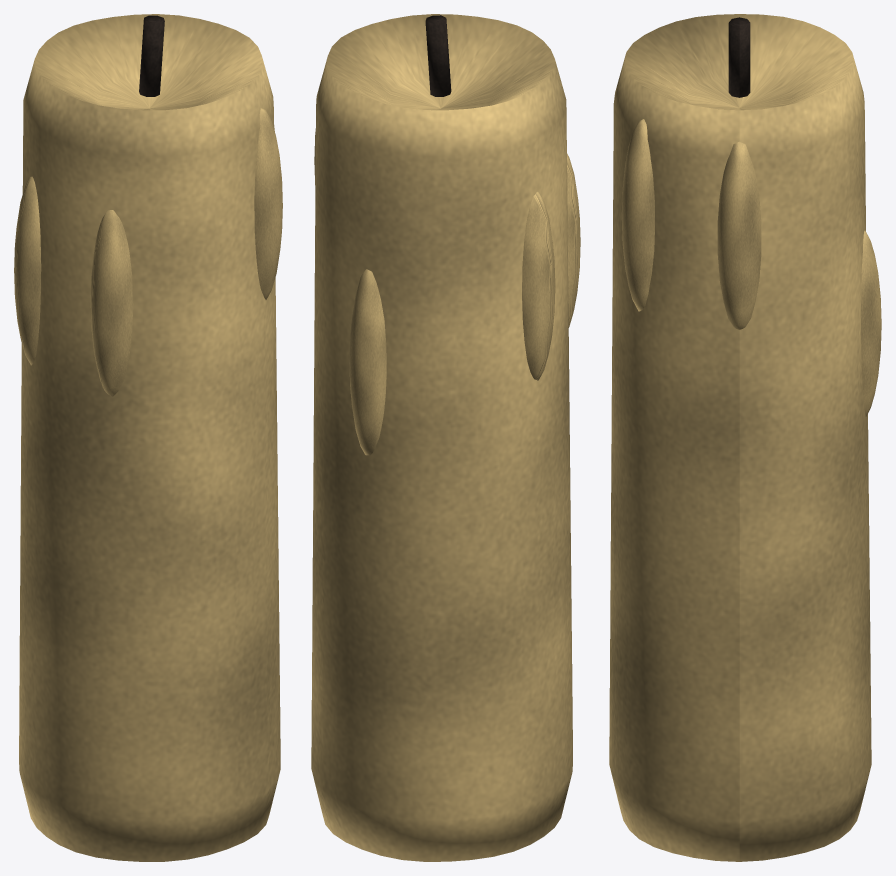
Rendered from candle_unlit.glb.
3 renders of one model, left to right at view 1: azimuth 30°, elevation 25°; view 2: azimuth 150°, elevation 25°; view 3: azimuth 270°, elevation 25°, orthographic.
Visible parts, largest first — view 1: wax, wick; view 2: wax, wick; view 3: wax, wick.
Part boxes in pixels (x1=…): wax: x1=14, y1=14, x2=282, y2=861; wick: x1=139, y1=15, x2=164, y2=96; wax: x1=311, y1=14, x2=580, y2=861; wick: x1=425, y1=15, x2=451, y2=96; wax: x1=609, y1=14, x2=881, y2=861; wick: x1=728, y1=17, x2=750, y2=97.
Bounding box in the file's own units: 0.0497 × 0.1531 × 0.0478.
Materials: 2 (2 with a texture image).
